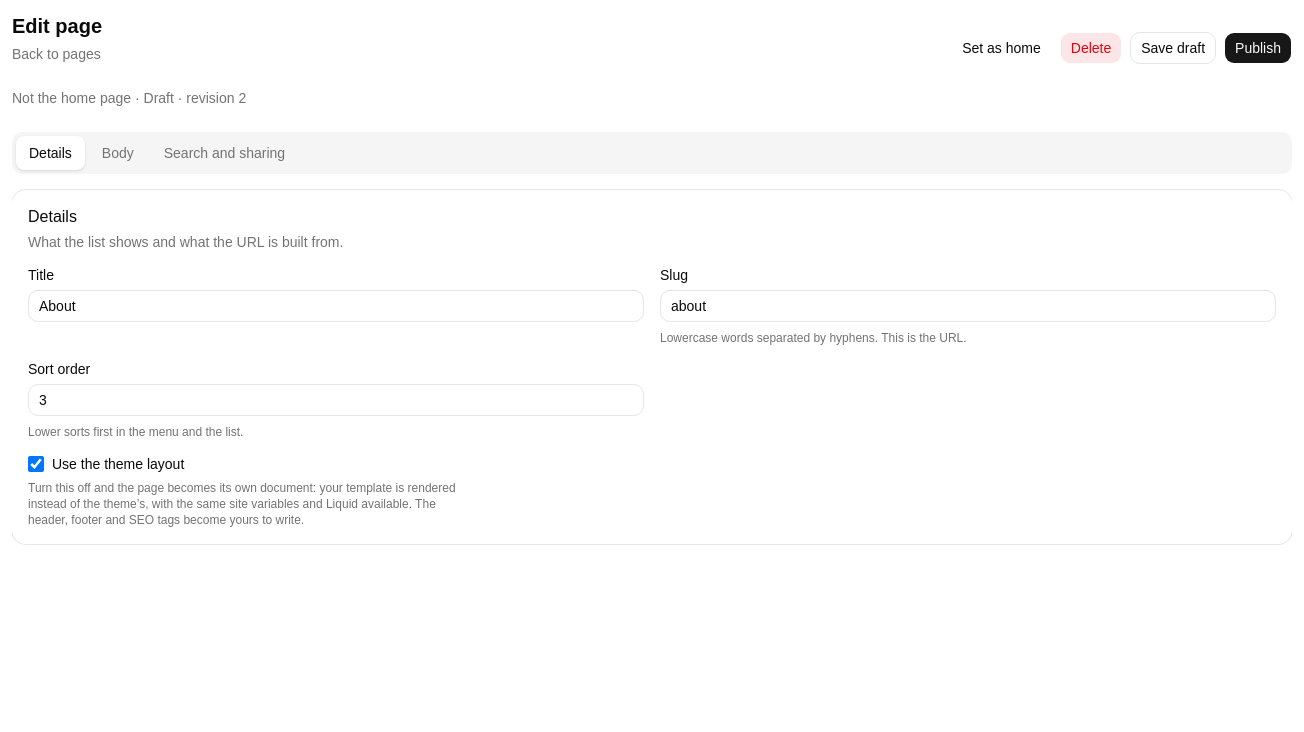
Test: the home page action › sets it and then stops offering to
Click the button "Set as home": (1002, 48) [951,32,1052,64]
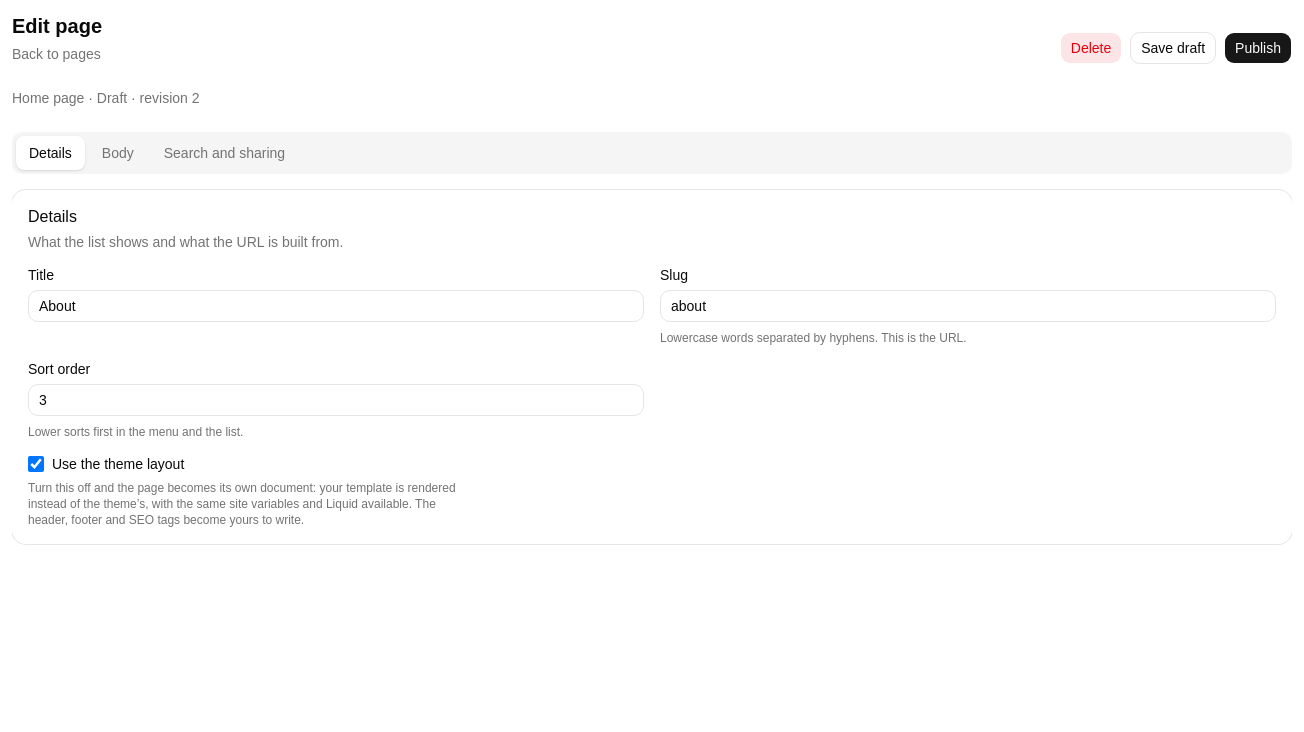
Expected: the text with test id "page-meta" shows "Home page", [12,90,200,106]
Result: the button "Set as home" is gone
